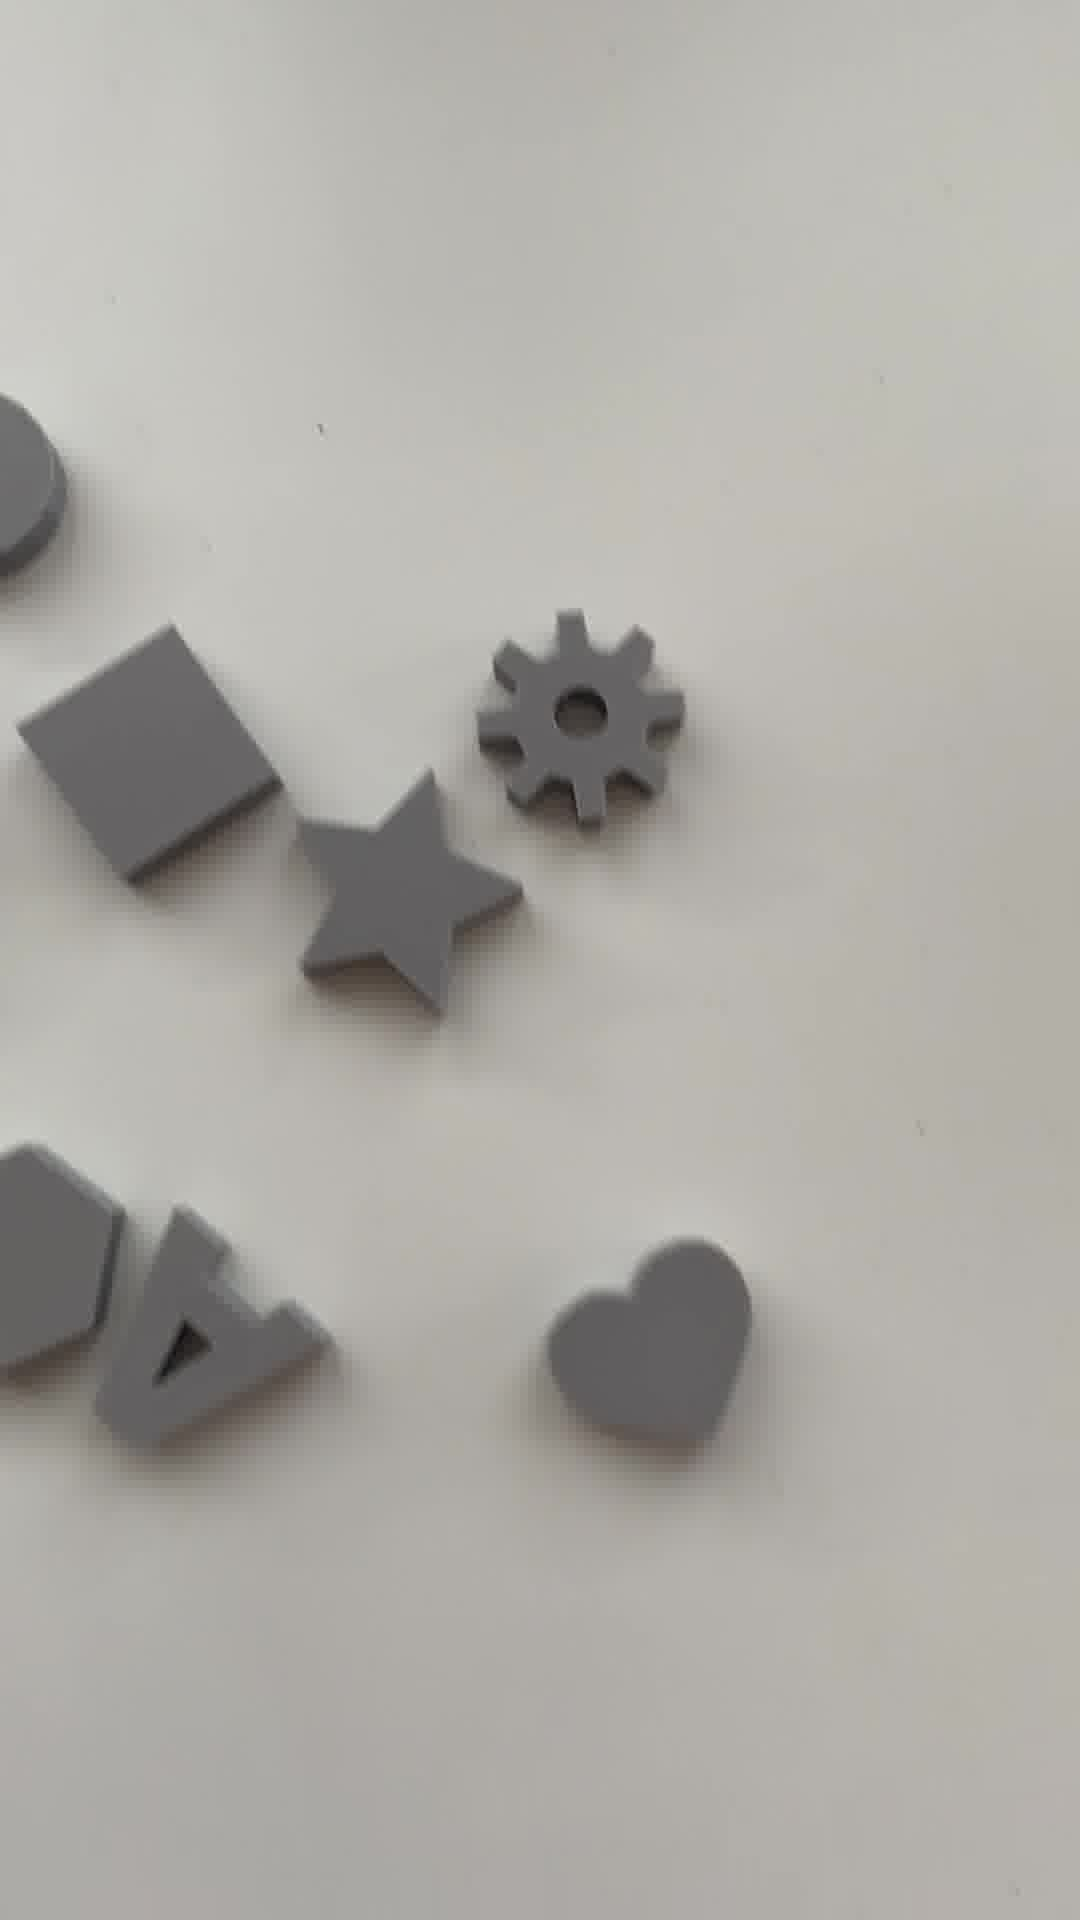Gray A-letter: (90, 1207, 316, 1458)
Gray gear: (472, 607, 692, 820)
Gray heart: (531, 1240, 767, 1455)
Gray hexagon: (1, 1138, 141, 1379)
Gray square: (17, 632, 272, 905)
Gray star: (278, 779, 531, 1021)
